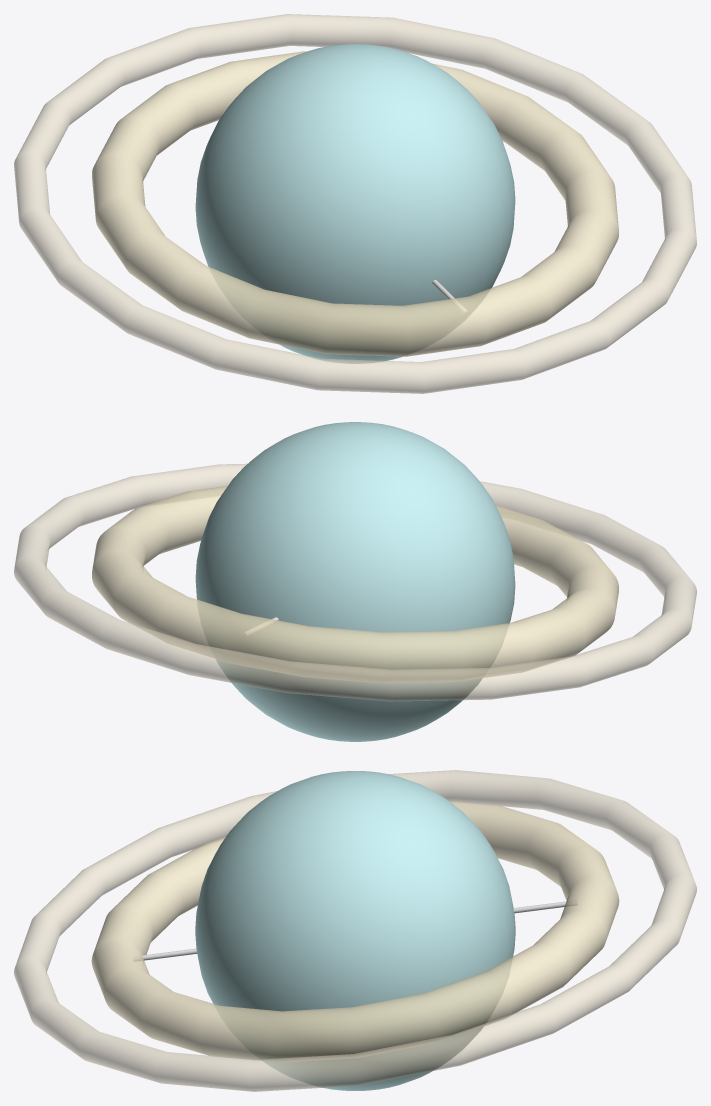
The model's file is uranus.glb.
3 views of the same model, one above another, from view 1: azimuth 30°, elevation 25°; view 2: azimuth 150°, elevation 25°; view 3: azimuth 270°, elevation 25° (orthographic).
Parts seen in each view (by area): view 1: uranus, uranus_rings_outer, uranus_rings_inner; view 2: uranus, uranus_rings_inner, uranus_rings_outer; view 3: uranus, uranus_rings_outer, uranus_rings_inner, uranus_axis.
Boxes of the visible parts, x1,y1,x2,y2 form: uranus: (195, 44, 515, 363); uranus_rings_outer: (14, 14, 696, 393); uranus_rings_inner: (92, 51, 618, 356); uranus: (195, 422, 515, 741); uranus_rings_inner: (92, 486, 618, 682); uranus_rings_outer: (14, 463, 696, 701); uranus: (195, 771, 515, 1090); uranus_rings_outer: (14, 770, 696, 1091); uranus_rings_inner: (91, 801, 619, 1062); uranus_axis: (133, 900, 577, 961).
Bounding box in the file's own units: 1.35 × 0.6275 × 1.34.
